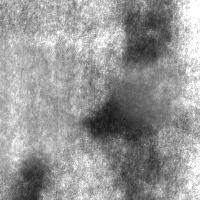patches: (0, 33, 87, 177), (89, 78, 166, 166), (110, 54, 186, 130), (125, 14, 164, 63), (15, 154, 46, 200)
